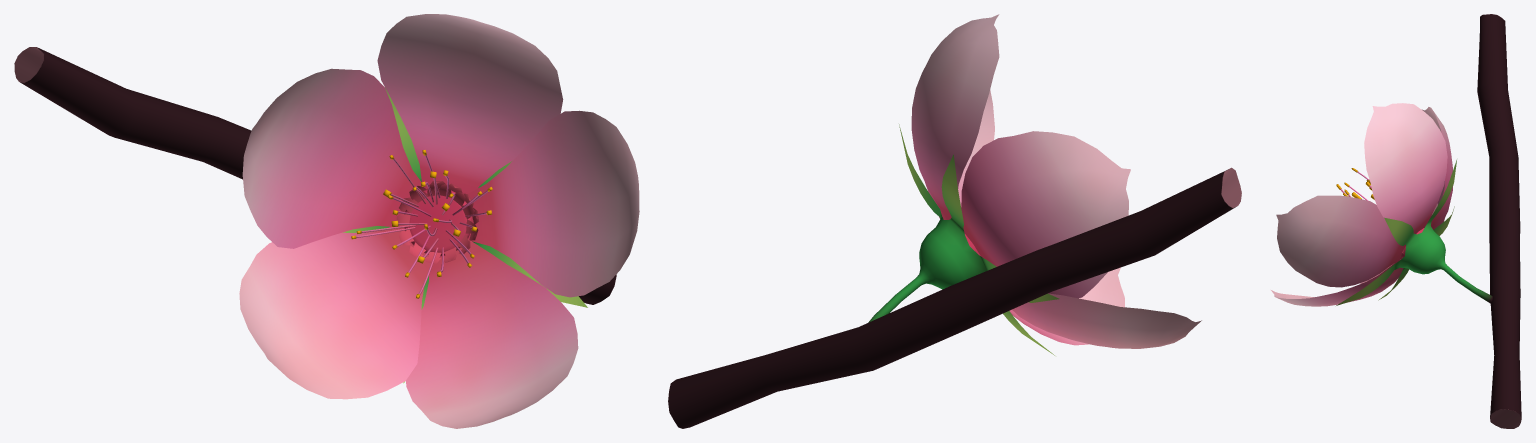
The model's file is cherry_blossom.glb.
3 views of the same model, side by side, from view 1: azimuth 30°, elevation 25°; view 2: azimuth 150°, elevation 25°; view 3: azimuth 270°, elevation 25° (orthographic). The views are drawn at different scales.
Parts seen in each view (by area): view 1: cherry_blossom; view 2: cherry_blossom; view 3: cherry_blossom.
Part boxes in pixels (<box>): cherry_blossom: <box>14,14,639,428</box>; cherry_blossom: <box>668,14,1241,428</box>; cherry_blossom: <box>1271,14,1521,428</box>.
Size of the model in its own units: 4.02 by 2.68 by 2.38.
1 material, 1 textured.
